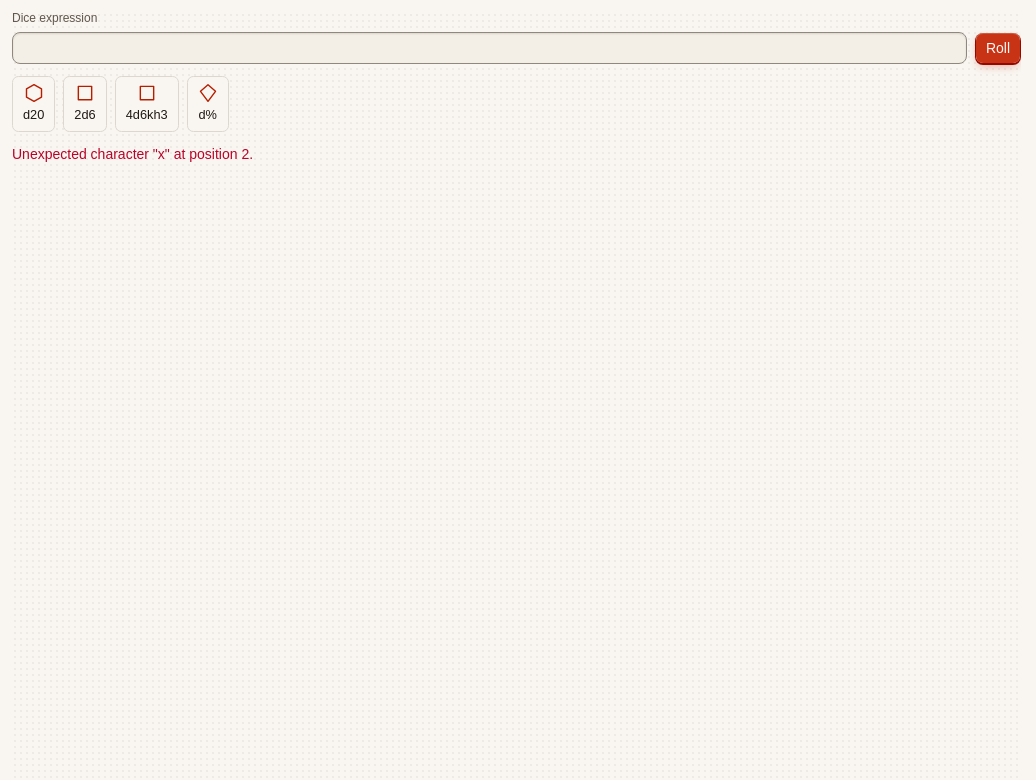
Test case: DiceRoller › shows only the missing-expression hint on a blank submit after a refused roll
This screenshot has width=1036, height=780.
Click the button "Roll". click: (998, 48)
box: [975,32,1021,64]
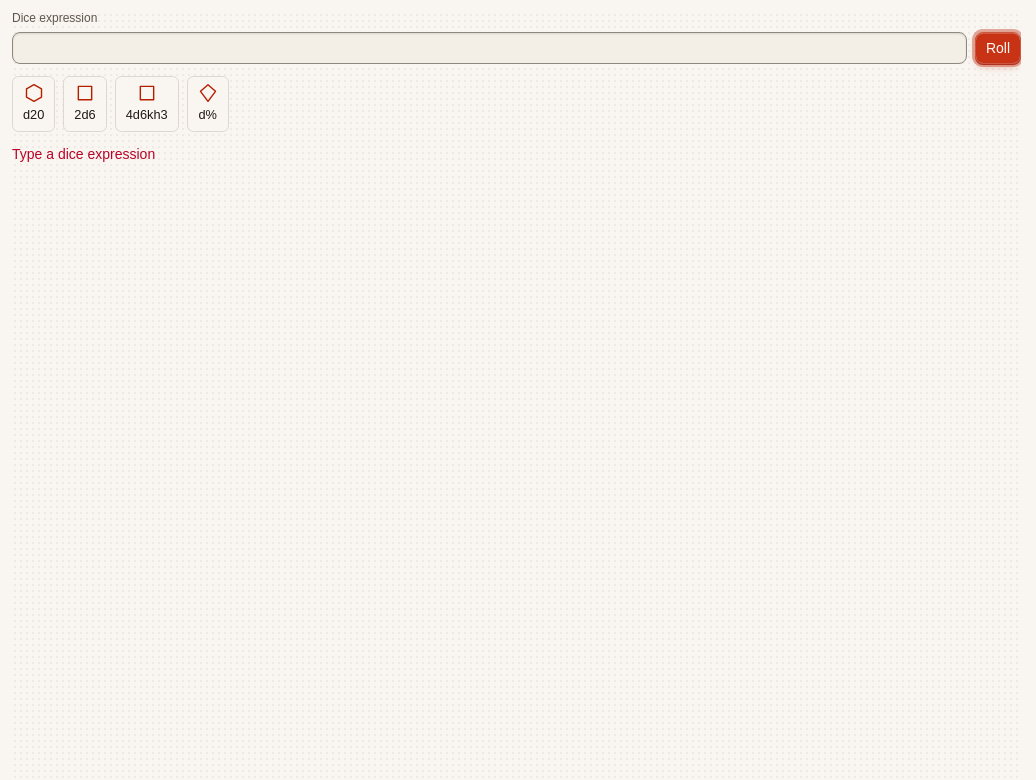
Expected: the number of messages is 1, [12,146,155,162]
Expected: the message reads "Type a dice expression", [12,146,155,162]
